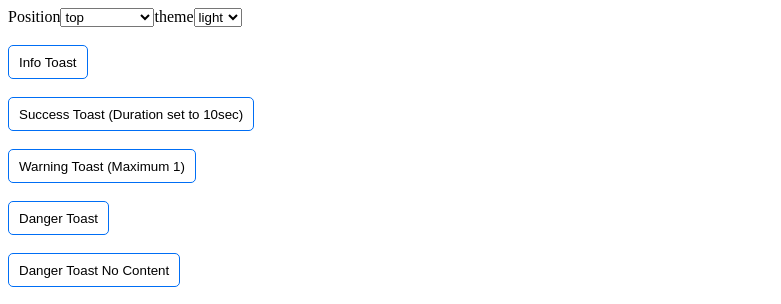
Scenario: Toasts › Adds success toast on click
Click the button "Success Toast (Duration set to 10sec)": [131, 114] box 8,97 -> 254,131
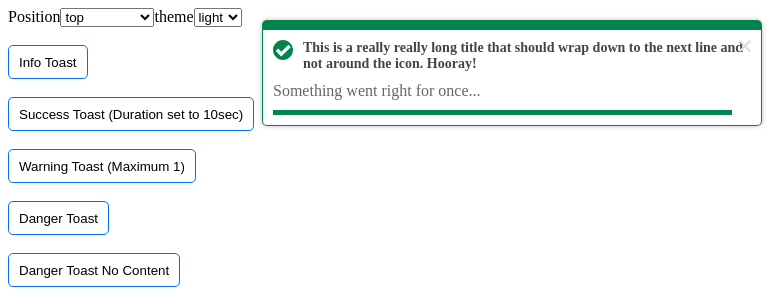
Expected: the text "Something went right for once..." is shown, 273,82 -> 480,99
